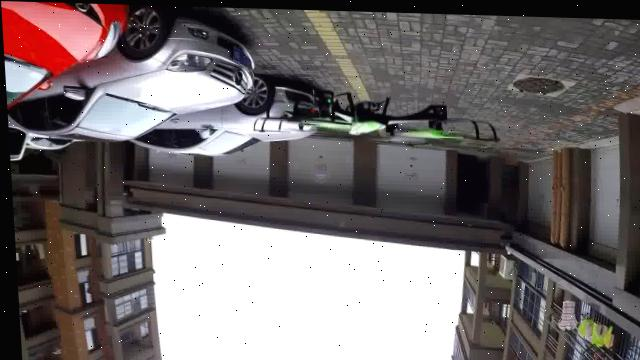drone: (233, 68, 509, 159)
